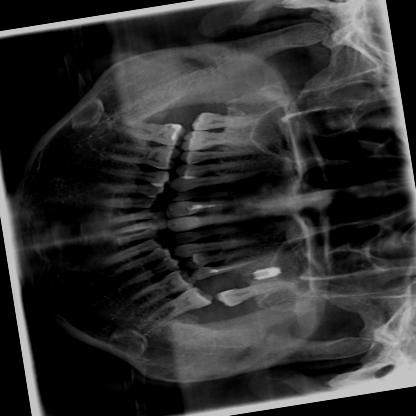Bicon: (247, 265, 282, 283)
